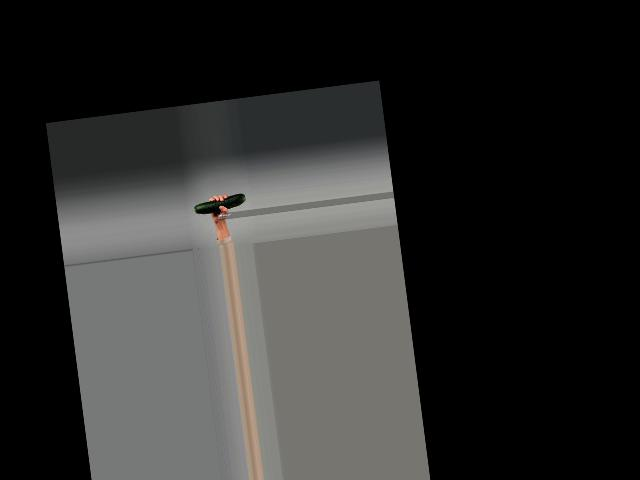cucumber: (194, 192, 247, 215)
